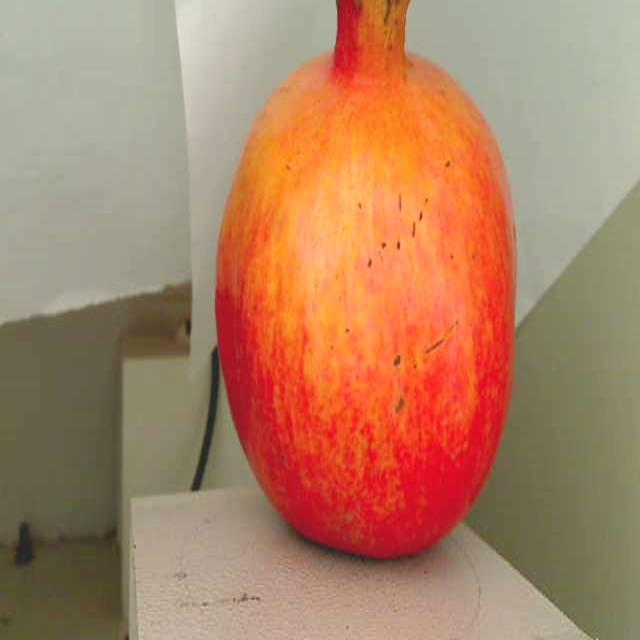pomegranate: (209, 0, 528, 577)
